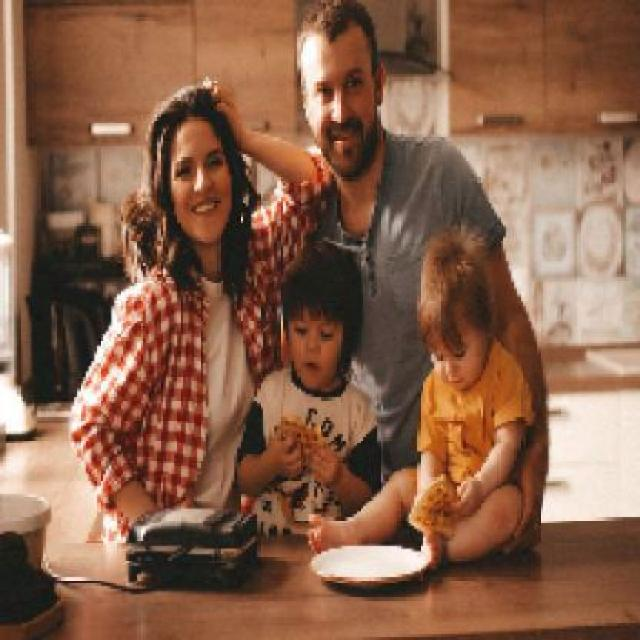child: (307, 227, 539, 567), (236, 237, 382, 537)
